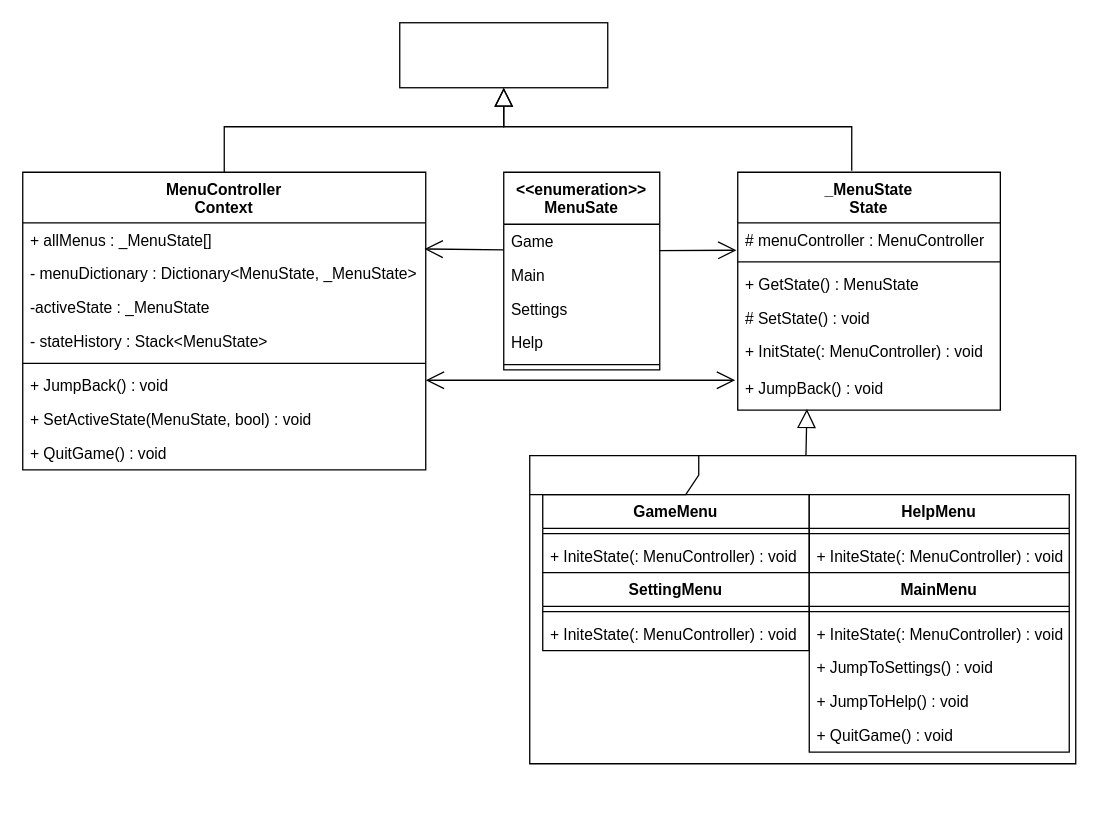
This 1118x832 diagram has some shape labels left out. Each missing label, with the centre of its shape:
"ConcreteMenuState" goes at [802,609].
"MonoBehaviour" goes at [503,54].
